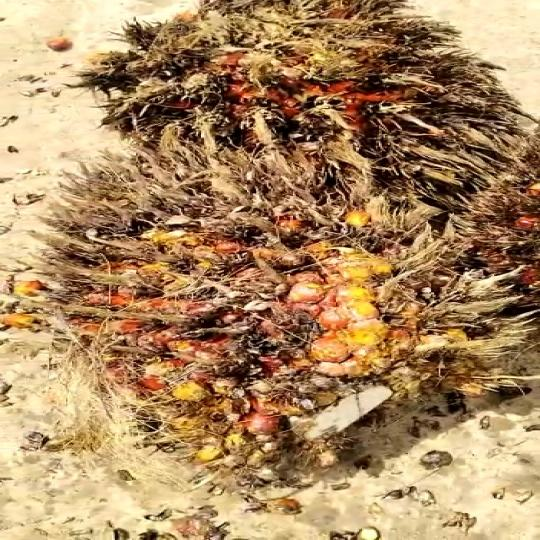terlalu masak: (0, 134, 531, 486)
